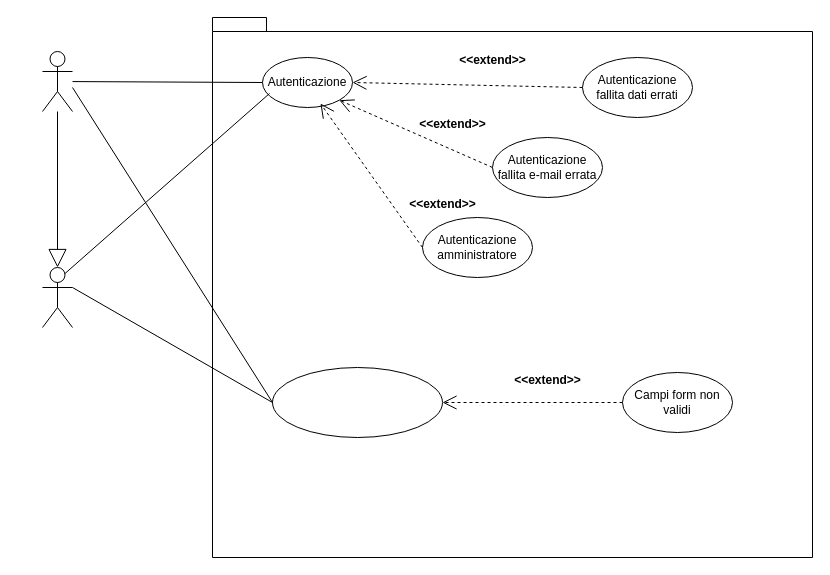
The diagram is 830 pixels wide and 575 high, and some of its shapes have lost their labels. The centre of each missing label's shape, as x and y in pixels:
"Amministratore" belongs at point 57,297.
"Modifica Stato Ordine e informazioni spedizione" belongs at point 357,402.
"Utente" belongs at point 57,81.
